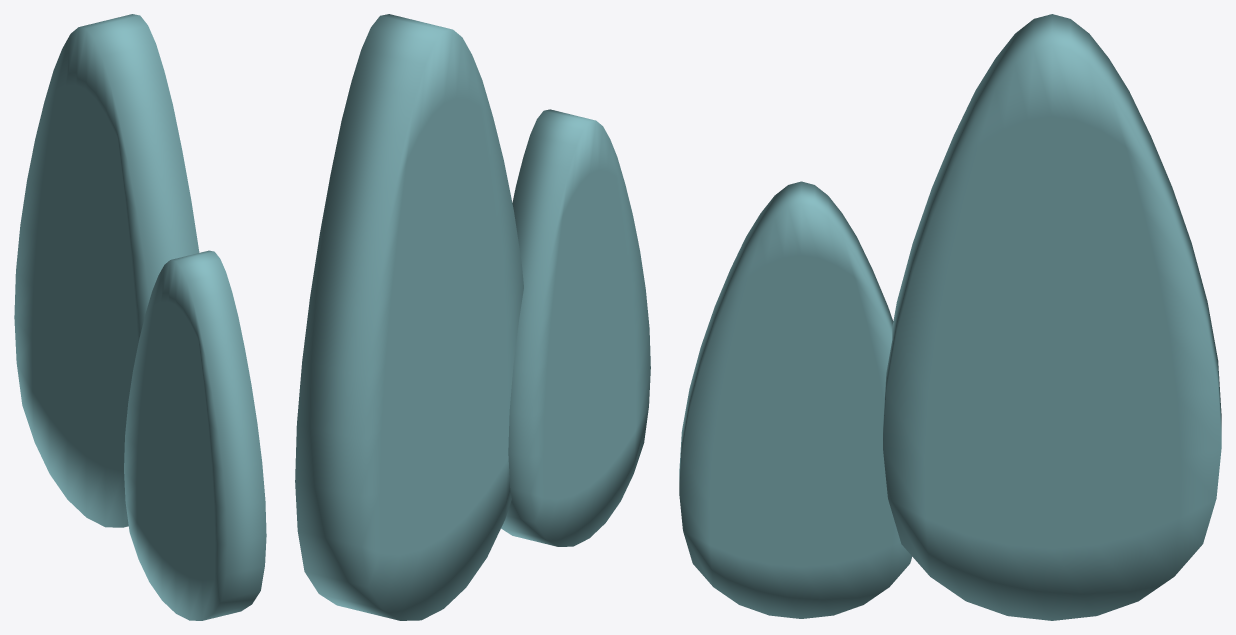
File: grass-winter.gltf
3 renders of one model, left to right at view 1: azimuth 30°, elevation 25°; view 2: azimuth 150°, elevation 25°; view 3: azimuth 270°, elevation 25°, orthographic. The views are drawn at different scales.
Parts seen in each view (by area): view 1: Plane.004, Plane.005; view 2: Plane.004, Plane.005; view 3: Plane.004, Plane.005.
Boxes of the visible parts, left/top/right/bottom form: Plane.004: left=14, top=14, right=199, bottom=527; Plane.005: left=124, top=250, right=266, bottom=620; Plane.004: left=295, top=14, right=523, bottom=620; Plane.005: left=501, top=109, right=650, bottom=546; Plane.004: left=883, top=14, right=1221, bottom=620; Plane.005: left=679, top=181, right=912, bottom=618.
Bounding box in the file's own units: 0.0645 × 0.4367 × 0.3623.
